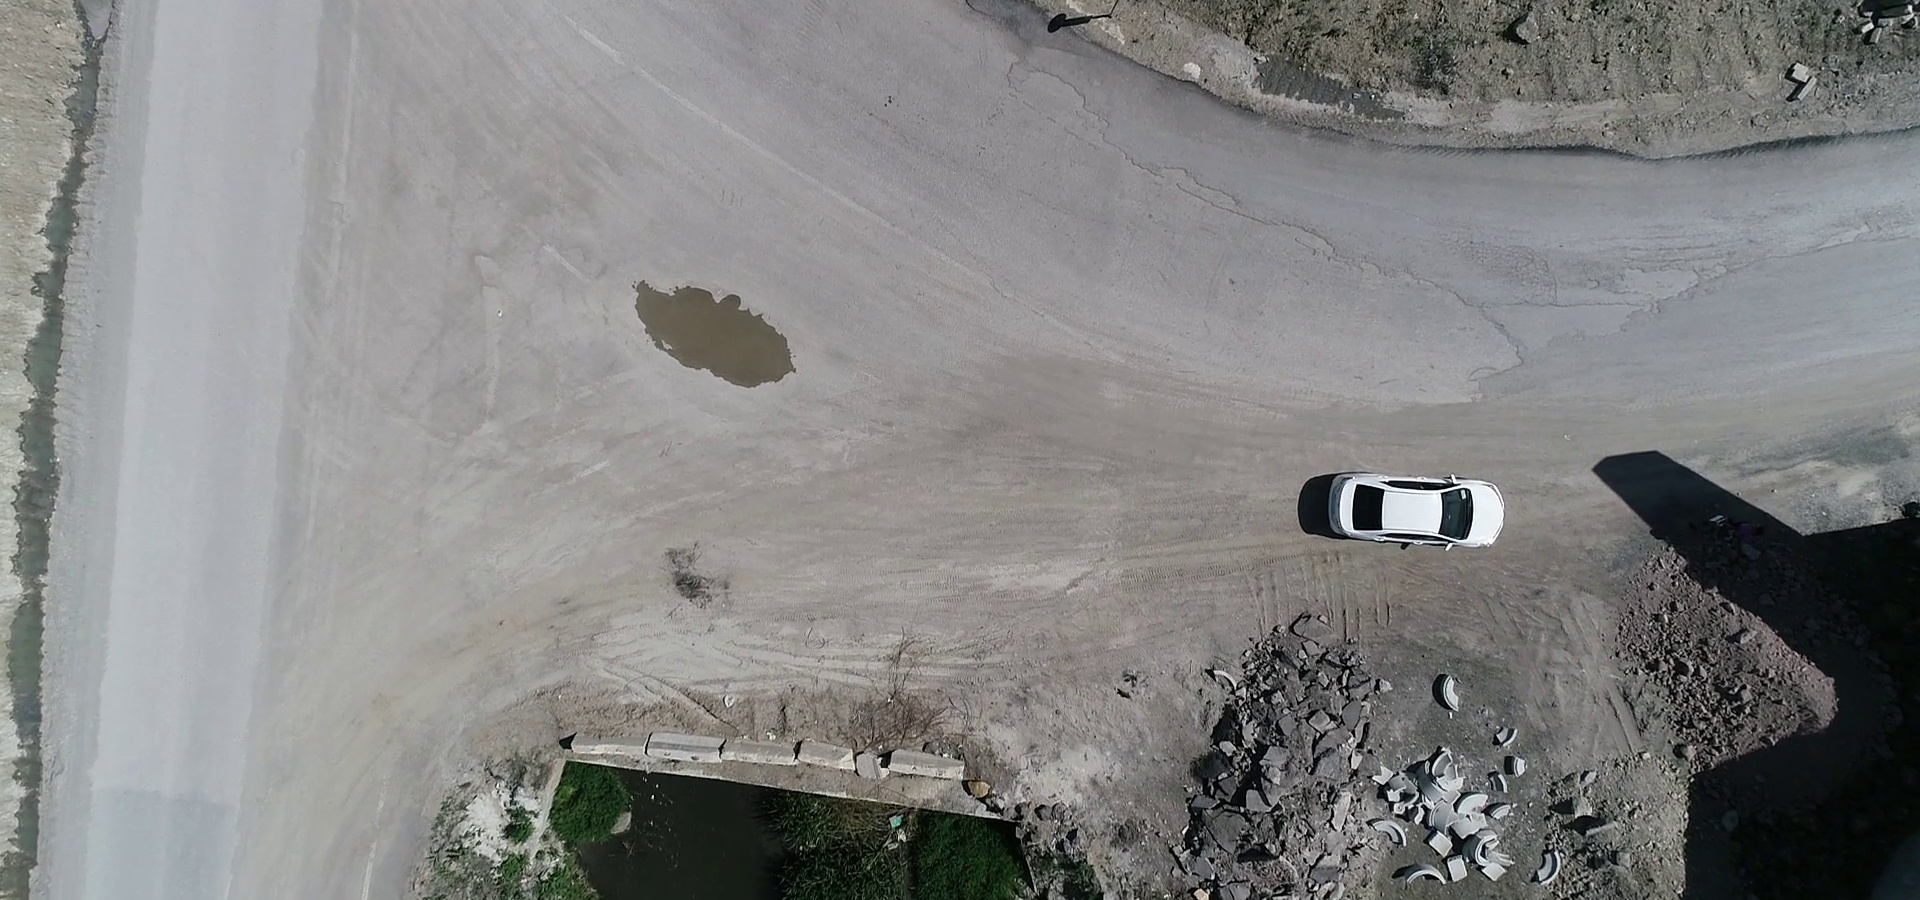araba: (1321, 462, 1528, 553)
